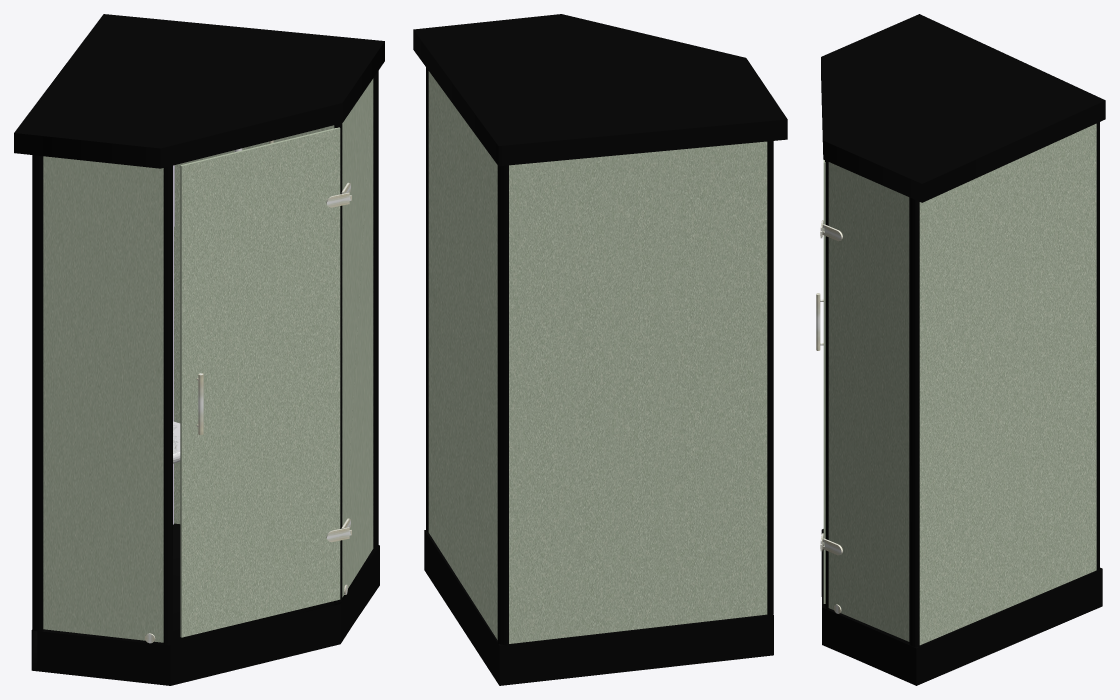
Rendered from Master_bedroom_shower_door.FBX.
3 renders of one model, left to right at view 1: azimuth 30°, elevation 25°; view 2: azimuth 150°, elevation 25°; view 3: azimuth 270°, elevation 25°, orthographic. The views are drawn at different scales.
Parts seen in each view (by area): view 1: Shower room door, Head; view 2: Shower room door; view 3: Shower room door, Head.
Boxes of the visible parts, x1=… form: Shower room door: x1=14, y1=14, x2=384, y2=685; Head: x1=180, y1=127, x2=351, y2=637; Shower room door: x1=413, y1=14, x2=787, y2=685; Shower room door: x1=821, y1=14, x2=1105, y2=685; Head: x1=816, y1=160, x2=825, y2=603.
Bounding box in the file's own units: 161 × 223 × 116.
